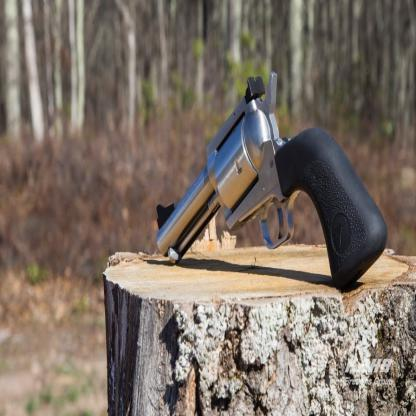Pistol: (147, 16, 380, 413)
